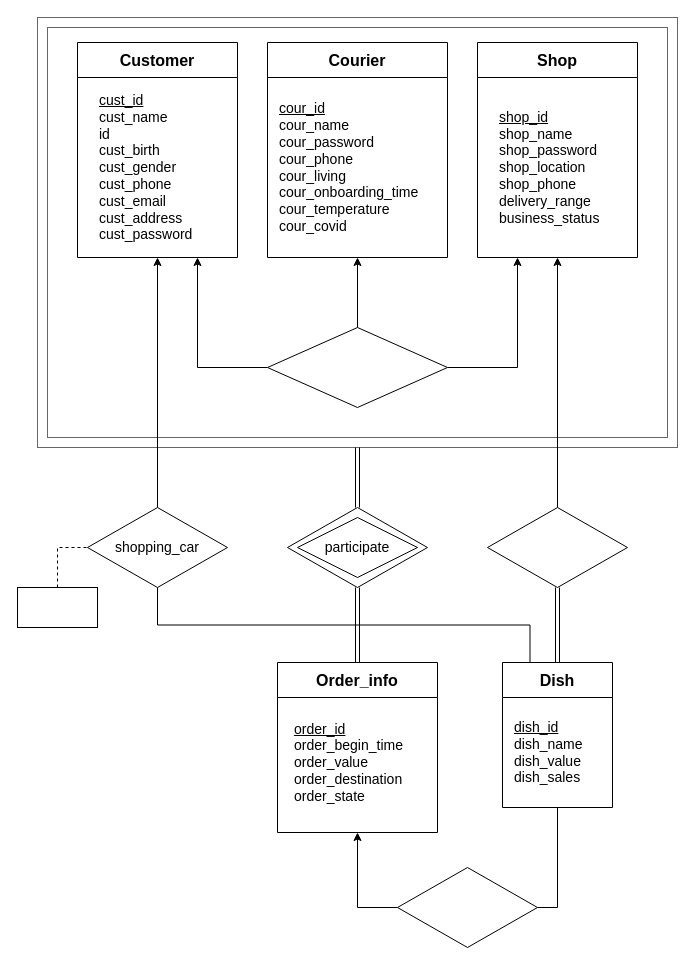
Some shapes in this 695 by 965 pixel diagram are drawn without their labels. The centre of each missing label's shape, as x and y in pixels:
car_num: [57,607]
contain: [467,907]
menu: [557,547]
order: [357,367]
